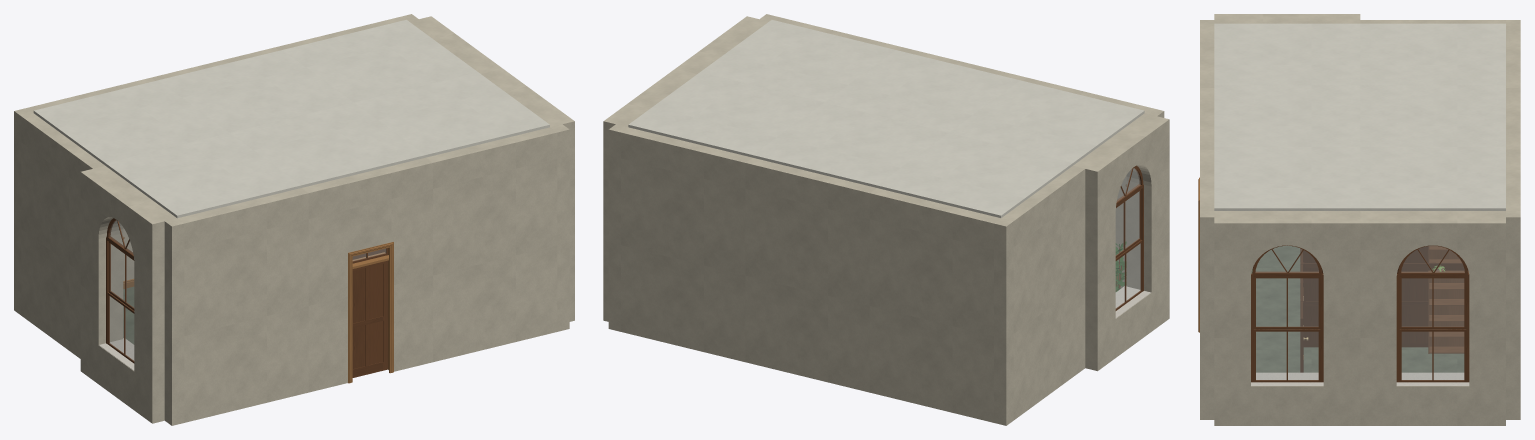
The model's file is X14_DEMO_LRS_Room_1953.glb.
3 views of the same model, side by side, from view 1: azimuth 30°, elevation 25°; view 2: azimuth 150°, elevation 25°; view 3: azimuth 270°, elevation 25° (orthographic).
Visible parts, largest first — view 1: X14_ARCH_Wall_Plain_300_LOD0.s0, X14_ARCH_Wall_Plain_300_LOD0.s2, X14_ARCH_Wall_Door_300_LOD0.s1, X14_ARCH_Wall_Window_300_LOD0.w1, X14_ARCH_Wall_Plain_300_LOD0.w0, X14_ARCH_Ceiling_Coffered_300_LOD0.c00, X14_ARCH_Ceiling_Coffered_300_LOD0.c10, X14_ARCH_Ceiling_Coffered_300_LOD0.c20, X14_ARCH_Ceiling_Coffered_300_LOD0.c01, X14_ARCH_Ceiling_Coffered_300_LOD0.c11, X14_ARCH_Ceiling_Coffered_300_LOD0.c21, X14_ARCH_Corner_LOD0.k0 (+10 smaller); view 2: X14_ARCH_Wall_Plain_300_LOD0.n1, X14_ARCH_Wall_Plain_300_LOD0.n2, X14_ARCH_Wall_Plain_300_LOD0.n0, X14_ARCH_Wall_Window_300_LOD0.w1, X14_ARCH_Wall_Plain_300_LOD0.w0, X14_ARCH_Ceiling_Coffered_300_LOD0.c01, X14_ARCH_Ceiling_Coffered_300_LOD0.c21, X14_ARCH_Ceiling_Coffered_300_LOD0.c11, X14_ARCH_Ceiling_Coffered_300_LOD0.c00, X14_ARCH_Ceiling_Coffered_300_LOD0.c10, X14_ARCH_Ceiling_Coffered_300_LOD0.c20, X14_ARCH_Corner_LOD0.k3 (+7 smaller); view 3: X14_ARCH_Wall_Window_300_LOD0.e0, X14_ARCH_Wall_Window_300_LOD0.e1, X14_ARCH_Ceiling_Coffered_300_LOD0.c20, X14_ARCH_Ceiling_Coffered_300_LOD0.c21, X14_ARCH_Ceiling_Coffered_300_LOD0.c00, X14_ARCH_Ceiling_Coffered_300_LOD0.c01, X14_ARCH_Ceiling_Coffered_300_LOD0.c10, X14_ARCH_Ceiling_Coffered_300_LOD0.c11, X14_ARCH_Wall_Window_300_Glass_LOD0.e0, X14_ARCH_Wall_Window_300_Glass_LOD0.e1, X14_ARCH_Corner_LOD0.k1, X14_ARCH_Corner_LOD0.k2 (+16 smaller).
Part boxes in pixels (x1,y1,x2,y2): X14_ARCH_Wall_Plain_300_LOD0.s0: (177,188,308,422); X14_ARCH_Wall_Plain_300_LOD0.s2: (426,127,557,362); X14_ARCH_Wall_Door_300_LOD0.s1: (302,157,432,392); X14_ARCH_Wall_Window_300_LOD0.w1: (80,166,176,423); X14_ARCH_Wall_Plain_300_LOD0.w0: (21,113,104,358); X14_ARCH_Ceiling_Coffered_300_LOD0.c00: (105,133,301,218); X14_ARCH_Ceiling_Coffered_300_LOD0.c10: (230,102,425,187); X14_ARCH_Ceiling_Coffered_300_LOD0.c20: (354,72,549,157); X14_ARCH_Ceiling_Coffered_300_LOD0.c01: (33,80,229,165); X14_ARCH_Ceiling_Coffered_300_LOD0.c11: (158,50,353,132); X14_ARCH_Ceiling_Coffered_300_LOD0.c21: (282,19,477,102); X14_ARCH_Corner_LOD0.k0: (164,218,184,425); X14_ARCH_Wall_Plain_300_LOD0.n1: (745,157,876,392); X14_ARCH_Wall_Plain_300_LOD0.n2: (869,188,1000,422); X14_ARCH_Wall_Plain_300_LOD0.n0: (621,127,751,361); X14_ARCH_Wall_Window_300_LOD0.w1: (1073,113,1169,371); X14_ARCH_Wall_Plain_300_LOD0.w0: (1001,166,1085,420); X14_ARCH_Ceiling_Coffered_300_LOD0.c01: (877,133,1072,217); X14_ARCH_Ceiling_Coffered_300_LOD0.c21: (628,72,823,157); X14_ARCH_Ceiling_Coffered_300_LOD0.c11: (752,102,948,187); X14_ARCH_Ceiling_Coffered_300_LOD0.c00: (949,80,1144,165); X14_ARCH_Ceiling_Coffered_300_LOD0.c10: (824,50,1019,132); X14_ARCH_Ceiling_Coffered_300_LOD0.c20: (700,20,895,102); X14_ARCH_Corner_LOD0.k3: (994,218,1013,425); X14_ARCH_Wall_Window_300_LOD0.e0: (1214,211,1360,425); X14_ARCH_Wall_Window_300_LOD0.e1: (1360,211,1505,425); X14_ARCH_Ceiling_Coffered_300_LOD0.c20: (1214,147,1360,210); X14_ARCH_Ceiling_Coffered_300_LOD0.c21: (1360,147,1505,210); X14_ARCH_Ceiling_Coffered_300_LOD0.c00: (1214,23,1360,85); X14_ARCH_Ceiling_Coffered_300_LOD0.c01: (1360,23,1505,85); X14_ARCH_Ceiling_Coffered_300_LOD0.c10: (1214,85,1360,146); X14_ARCH_Ceiling_Coffered_300_LOD0.c11: (1360,85,1505,146); X14_ARCH_Wall_Window_300_Glass_LOD0.e0: (1256,246,1318,379); X14_ARCH_Wall_Window_300_Glass_LOD0.e1: (1401,246,1464,379); X14_ARCH_Corner_LOD0.k1: (1200,211,1214,419); X14_ARCH_Corner_LOD0.k2: (1506,211,1520,419).
Size of what is drawn, in the model's own units: 10.2 by 4.66 by 6.63.
Materials: 29 (14 with a texture image).
